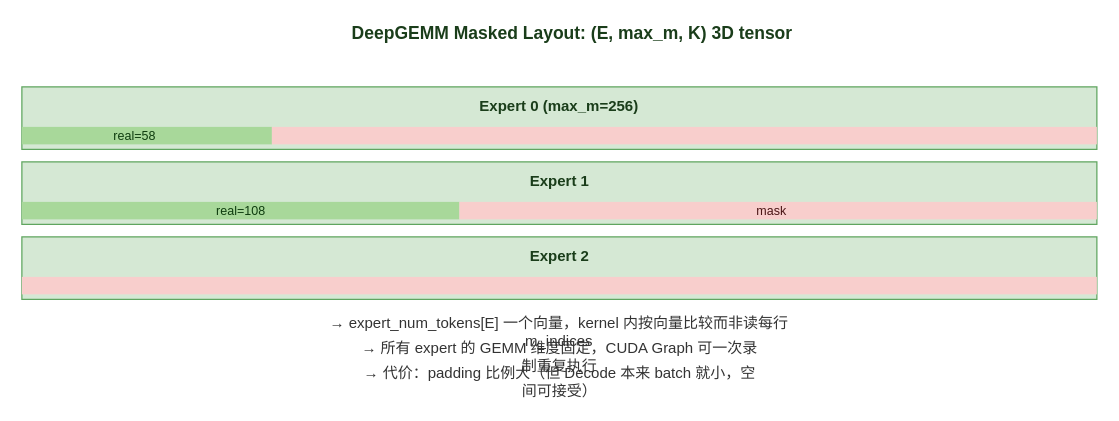
This 1119x421 diagram has some shape labels left out. Here are the shapes that lost their labels. From the top down, the centre of each, then its label:
the point at 683,135: mask (跳过 198 行)
the point at 558,285: real=0 → 整 expert mask（kernel 直接跳整组）
